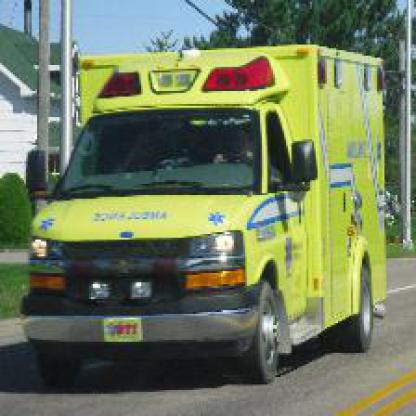emergency: (26, 35, 401, 403)
